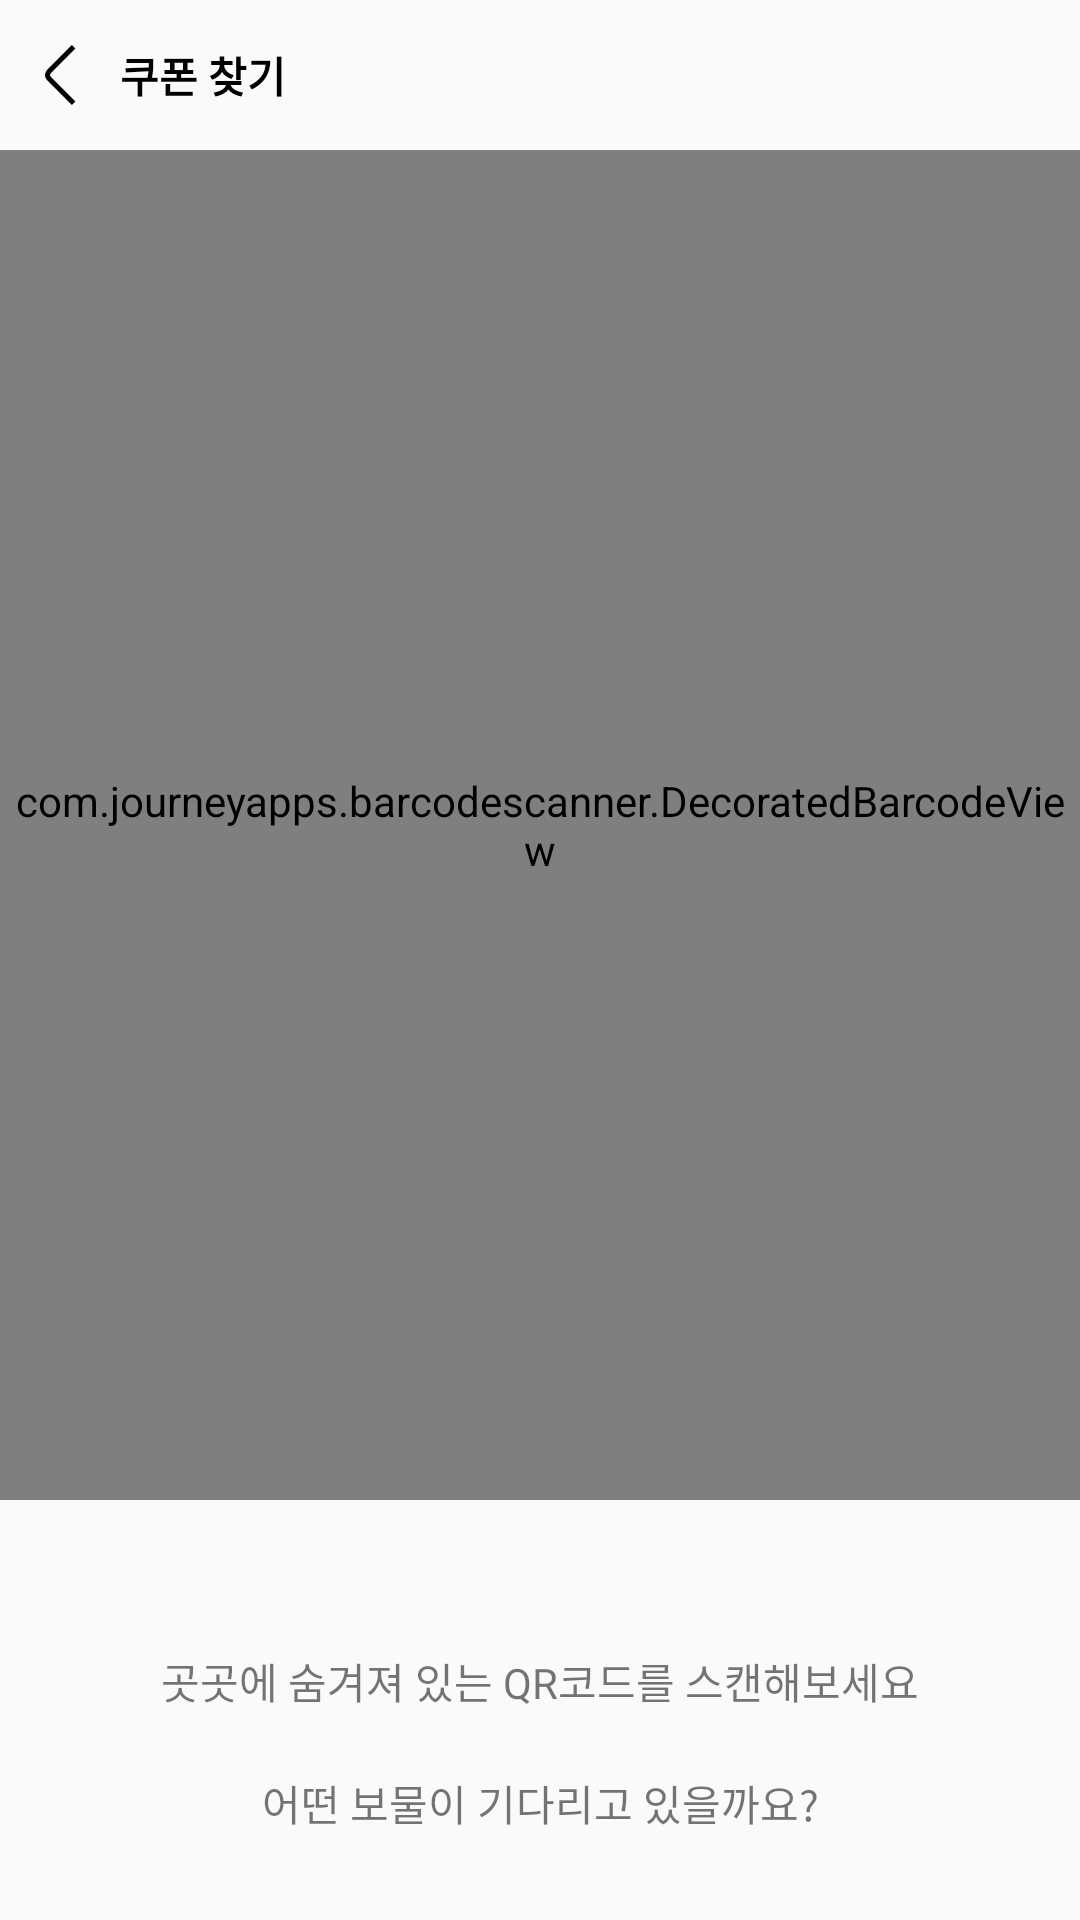

Point at icon controls on the screen. Image size 1080px×1920px, points as point (x, y).
back arrow: point (60, 75)
